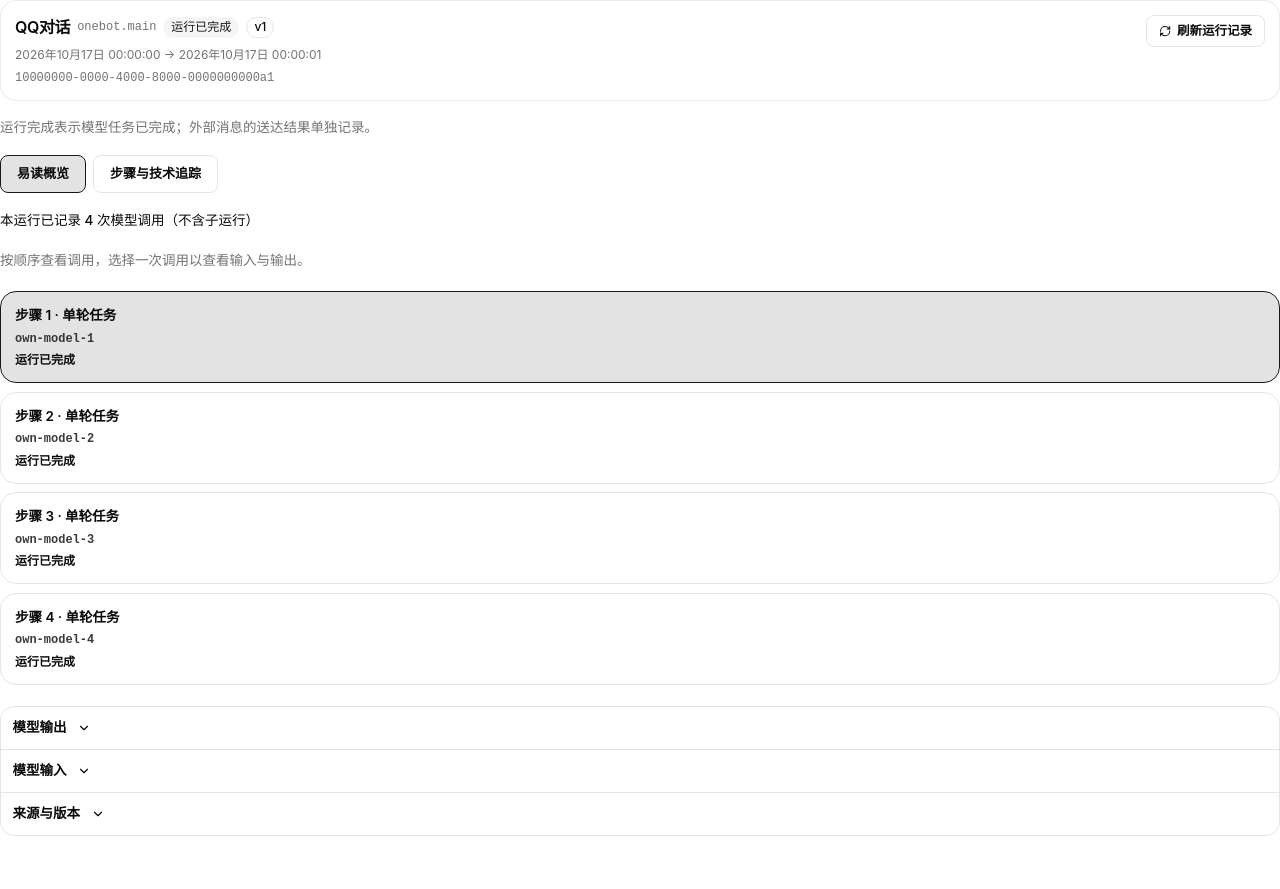
run detail prefetch and two-board sharing › bounds actual concurrent bodies to three while completing every closed handle, and builds no source DOM until expanded
The width and height of the screenshot is (1280, 889).
Expected: the text "本运行已记录 4 次模型调用（不含子运行）" is shown, [0, 212, 259, 228]
# 展开展示已收到的全量 1900 行，首末都在，无截断，且不发新请求
Click the button "来源与版本": {"x": 58, "y": 814} [1, 793, 116, 835]
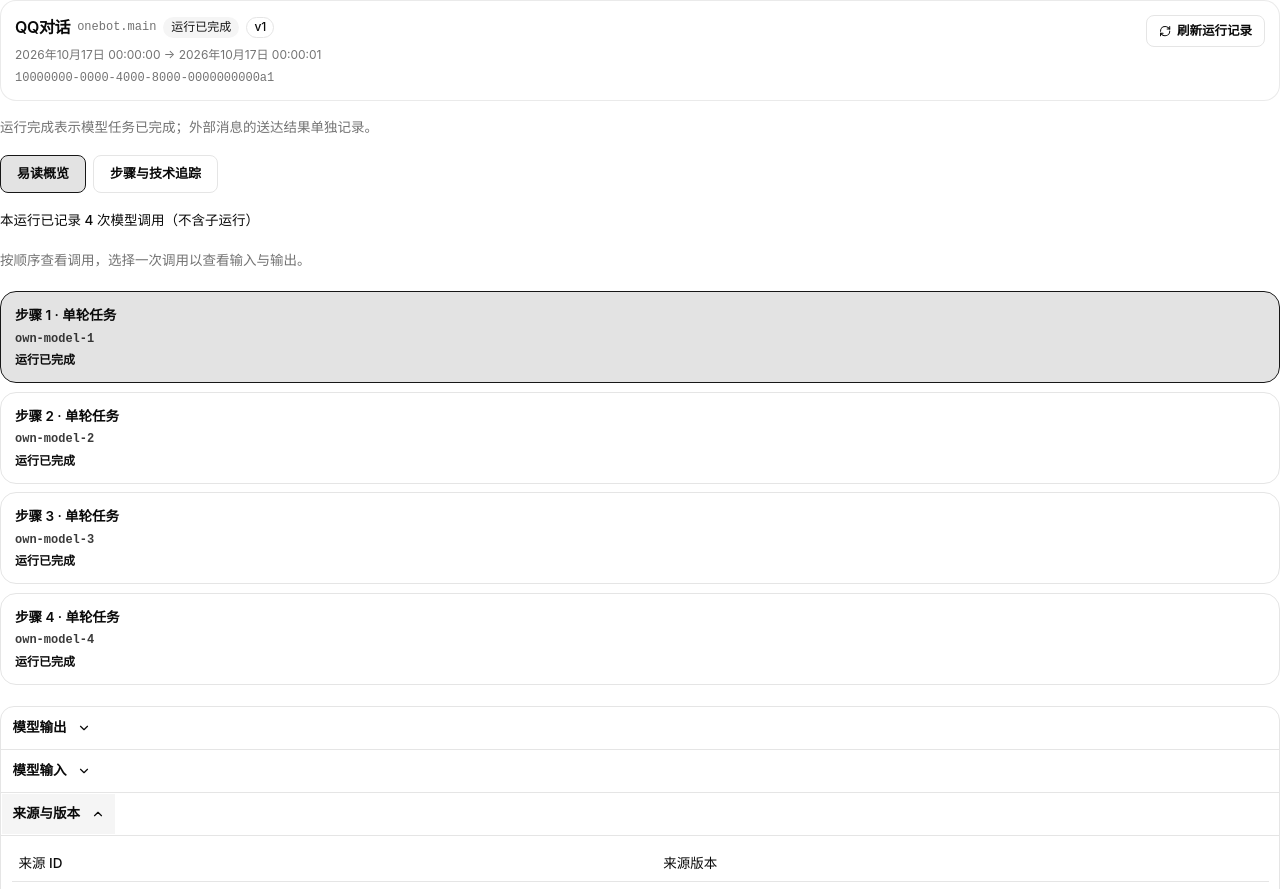
Click the button "模型输出": {"x": 52, "y": 728} [1, 707, 102, 749]
(page scrolled)
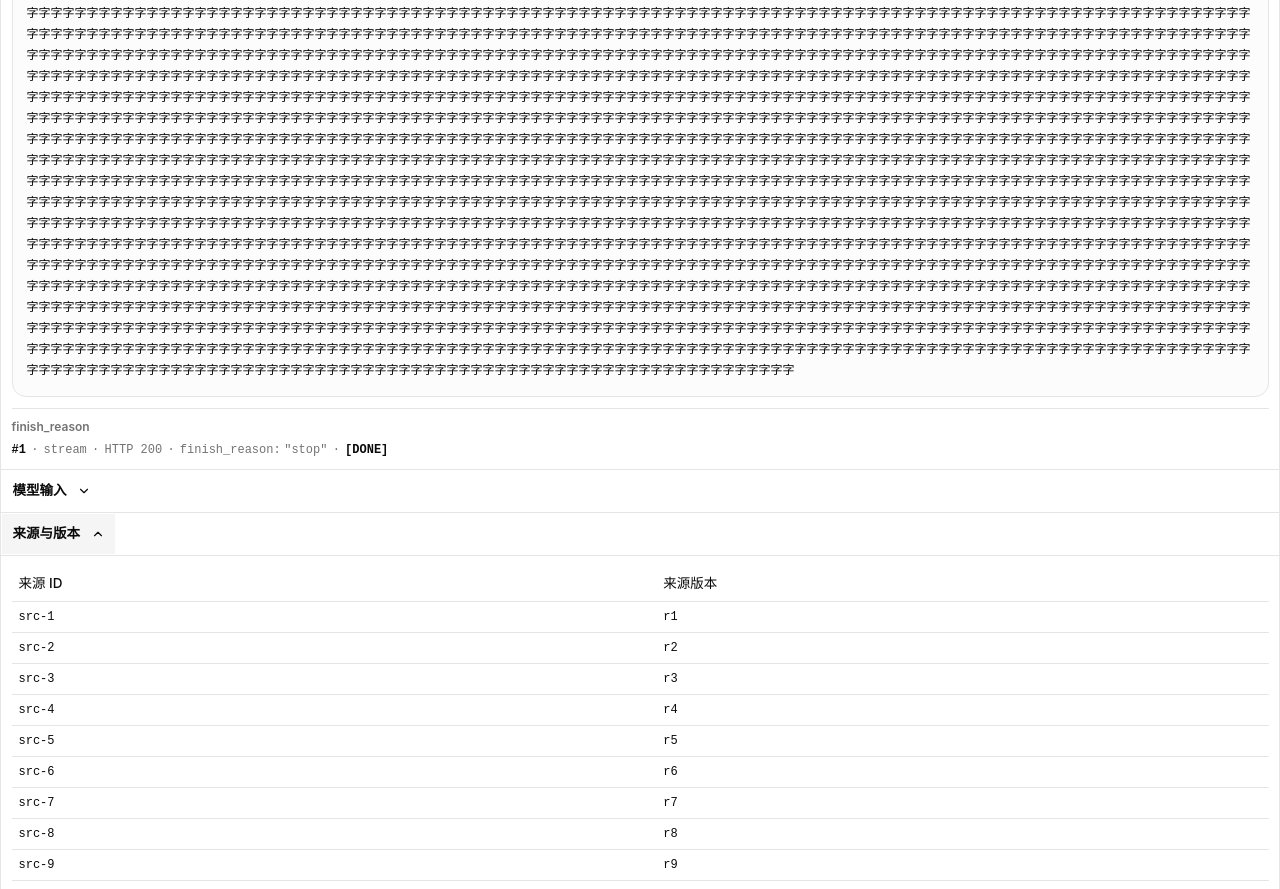
Expected: the text "\"stop\"" is shown, [284, 443, 327, 457]
